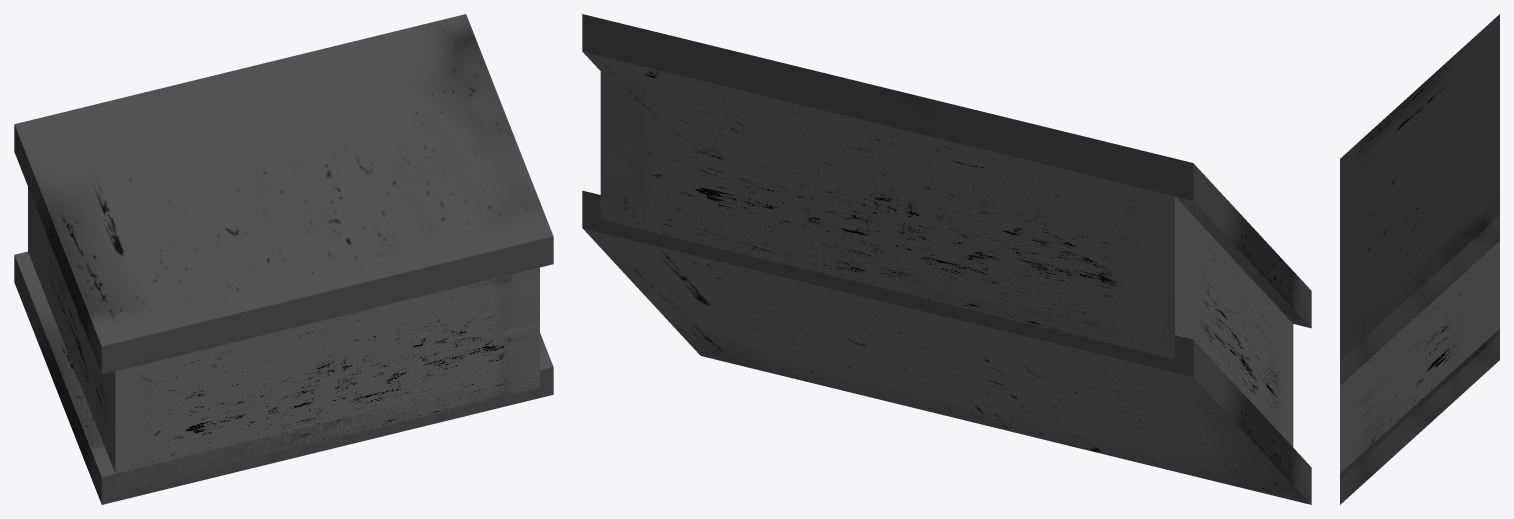
Rendered from Platform_1x3_Ramp_V1.fbx.
The picture shows the model from 3 angles, left to right: view 1: azimuth 30°, elevation 25°; view 2: azimuth 150°, elevation 25°; view 3: azimuth 270°, elevation 25°; orthographic projection. The views are drawn at different scales.
Visible parts, largest first — view 1: Platform 1x3 Ramp V1; view 2: Platform 1x3 Ramp V1; view 3: Platform 1x3 Ramp V1.
Part boxes in pixels (x1,y1,x2,y2): Platform 1x3 Ramp V1: (14, 14, 553, 504); Platform 1x3 Ramp V1: (582, 14, 1311, 504); Platform 1x3 Ramp V1: (1340, 14, 1499, 504).
Size of the model in its own units: 298 by 200 by 100.
